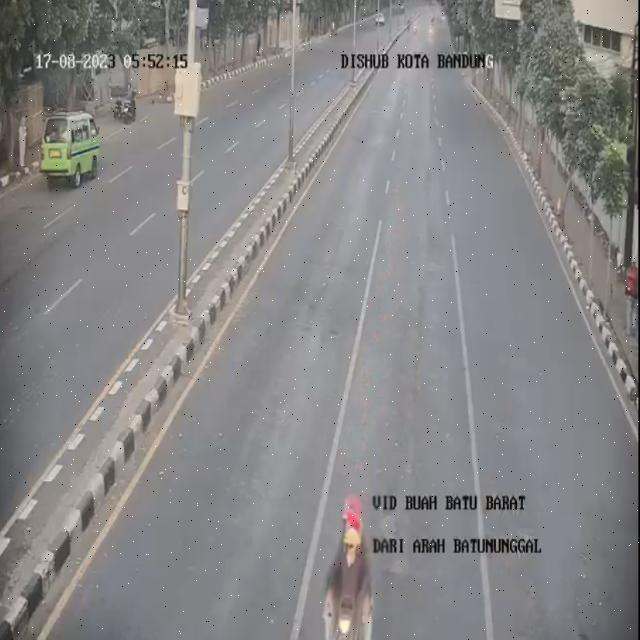motorcycle: (307, 481, 392, 640)
